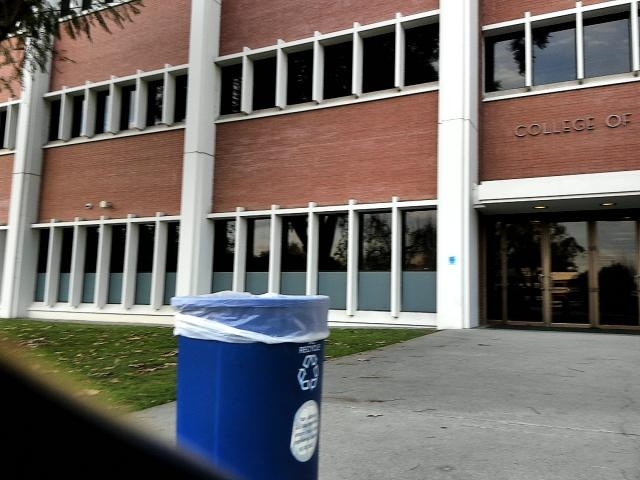trashcan_open: (162, 285, 343, 480)
